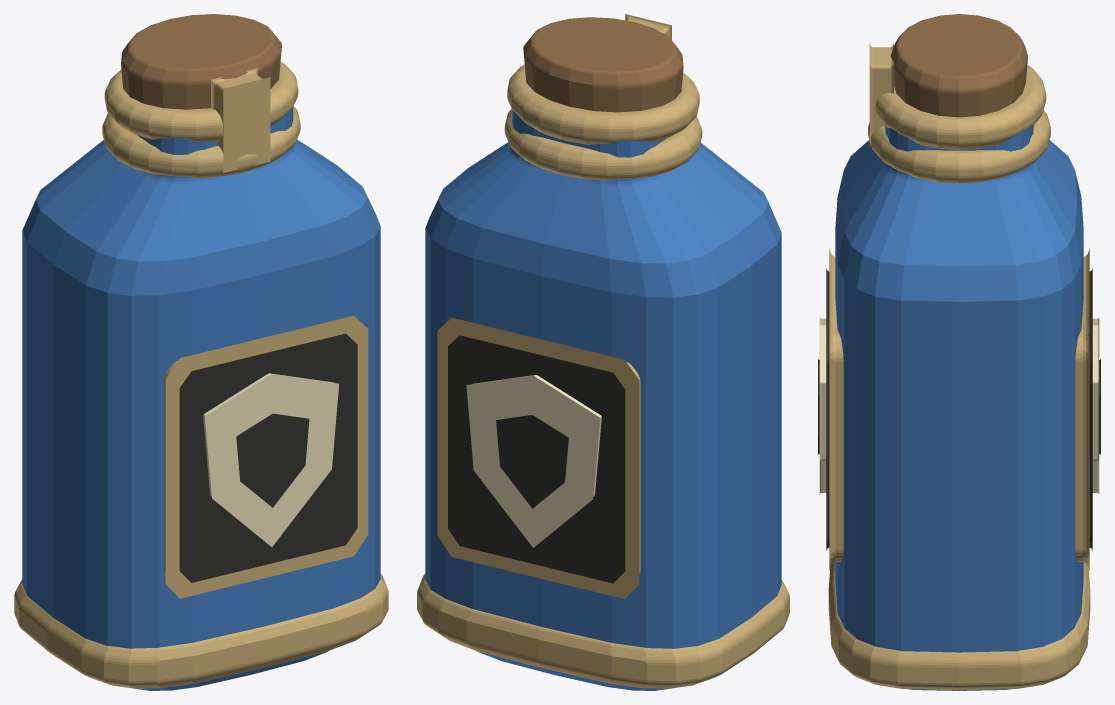
File: elixir_guard.glb
3 views of the same model, side by side, from view 1: azimuth 30°, elevation 25°; view 2: azimuth 150°, elevation 25°; view 3: azimuth 270°, elevation 25° (orthographic).
Visible parts, largest first — view 1: elixir_guard; view 2: elixir_guard; view 3: elixir_guard.
Part boxes in pixels (x1,y1,x2,y2): elixir_guard: (14,14,388,690); elixir_guard: (417,14,789,690); elixir_guard: (818,14,1100,690).
Size of the model in its own units: 0.432 by 0.8 by 0.346.
